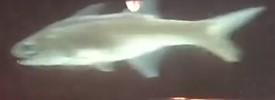Mullet: (10, 1, 270, 77)
